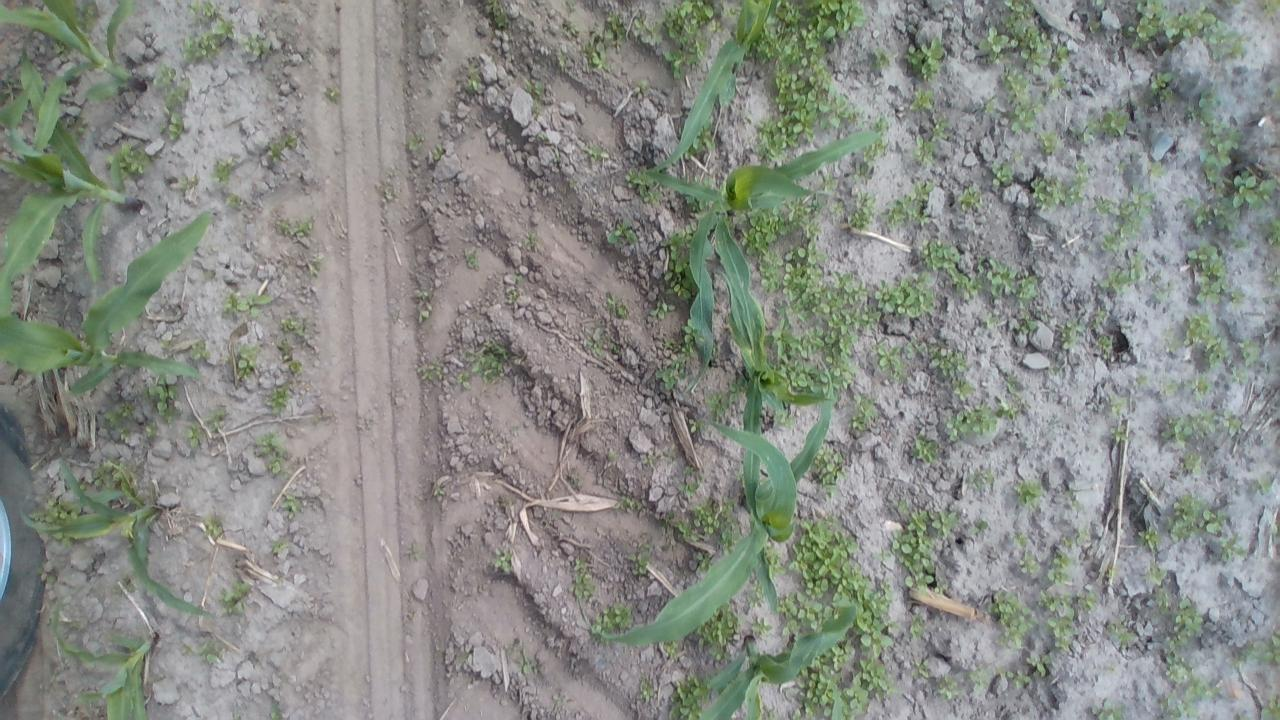Maize: (598, 363, 836, 646), (648, 125, 882, 399), (708, 198, 828, 610), (3, 212, 218, 395), (1, 46, 142, 323), (23, 450, 212, 614), (646, 0, 774, 176), (2, 0, 148, 152), (701, 594, 854, 720), (51, 601, 162, 719)
Weeds: (748, 0, 864, 157), (758, 237, 868, 351), (792, 514, 888, 606), (1120, 0, 1246, 65), (892, 502, 958, 590), (798, 662, 872, 720), (1094, 186, 1154, 250), (741, 204, 817, 254), (776, 348, 858, 391), (918, 239, 978, 297), (1001, 65, 1042, 140), (583, 11, 627, 76), (1028, 163, 1090, 209), (1205, 124, 1243, 199), (661, 228, 695, 306), (1227, 626, 1280, 676), (990, 590, 1036, 647), (1162, 654, 1224, 696), (882, 178, 934, 228), (1184, 311, 1230, 367), (875, 274, 933, 317), (1096, 248, 1146, 296), (219, 286, 278, 326), (696, 500, 738, 554), (663, 0, 721, 39), (102, 140, 154, 182), (182, 21, 232, 63), (775, 592, 822, 636), (461, 345, 504, 392), (1230, 169, 1278, 210), (660, 40, 709, 80), (944, 405, 996, 442), (664, 676, 706, 720), (652, 507, 696, 548), (1013, 26, 1050, 74), (105, 398, 138, 450), (906, 35, 944, 80), (1166, 492, 1200, 541), (622, 165, 658, 210), (1196, 276, 1248, 307), (652, 356, 693, 395), (858, 604, 892, 650), (503, 638, 543, 677), (1186, 241, 1228, 276), (1184, 86, 1222, 124), (232, 340, 262, 388), (874, 342, 906, 387), (812, 449, 846, 490), (253, 432, 286, 474), (590, 602, 633, 634), (662, 318, 696, 358), (986, 256, 1020, 296), (853, 140, 888, 178), (930, 346, 971, 378), (862, 658, 898, 694), (629, 5, 660, 46), (704, 386, 740, 421), (636, 441, 678, 471), (206, 154, 239, 192), (1197, 499, 1230, 536), (90, 459, 132, 488), (759, 542, 788, 584), (1178, 192, 1210, 230), (1174, 598, 1204, 638), (701, 612, 738, 644), (928, 672, 965, 704), (598, 288, 634, 320), (1160, 688, 1198, 718), (585, 325, 618, 359), (266, 130, 298, 164), (848, 395, 878, 431), (846, 192, 876, 228), (220, 582, 252, 615), (979, 26, 1008, 62), (149, 380, 175, 420), (967, 461, 998, 494), (262, 382, 288, 420), (1103, 616, 1137, 645), (1070, 114, 1097, 150), (1257, 211, 1280, 253), (1160, 414, 1190, 446), (675, 463, 704, 496), (1038, 589, 1072, 616), (1048, 548, 1074, 583), (1047, 616, 1075, 648), (1142, 158, 1176, 184), (481, 0, 508, 32), (486, 544, 513, 576), (376, 166, 401, 200), (646, 294, 676, 322), (1250, 474, 1278, 504), (570, 561, 593, 597), (162, 107, 186, 141), (1004, 0, 1038, 24), (1091, 698, 1128, 720), (1179, 448, 1208, 476), (1185, 371, 1213, 400), (182, 418, 207, 450), (185, 0, 223, 21), (1214, 200, 1238, 233), (606, 217, 634, 245), (1072, 588, 1102, 614), (912, 436, 940, 463), (1219, 535, 1247, 562), (1190, 408, 1216, 437), (958, 185, 984, 214), (1024, 651, 1051, 678), (1238, 336, 1266, 362), (414, 288, 434, 324), (277, 218, 313, 238), (108, 573, 138, 597), (1016, 274, 1040, 304), (1000, 366, 1023, 397), (1045, 69, 1067, 101), (1017, 480, 1043, 507), (970, 664, 994, 693), (1034, 131, 1064, 154), (39, 500, 73, 520), (1102, 109, 1128, 135), (188, 338, 214, 364), (241, 31, 268, 56), (870, 44, 895, 71), (582, 140, 610, 164), (1058, 320, 1082, 348), (1115, 150, 1137, 180), (749, 613, 773, 640), (908, 652, 932, 679), (706, 646, 734, 669), (1154, 585, 1174, 617), (150, 62, 179, 84), (1222, 409, 1244, 438), (1152, 74, 1176, 100), (1085, 303, 1108, 330), (521, 74, 546, 97), (617, 491, 642, 514), (906, 612, 929, 637), (462, 244, 481, 274), (172, 174, 200, 194), (1108, 390, 1128, 418), (999, 668, 1030, 686), (166, 82, 190, 105), (992, 162, 1015, 186), (266, 532, 290, 555), (1230, 365, 1254, 388), (911, 87, 933, 112), (1106, 422, 1131, 444), (698, 120, 714, 154), (36, 561, 56, 588), (1162, 324, 1180, 354), (968, 516, 991, 539), (914, 136, 936, 160), (200, 640, 224, 662), (402, 542, 424, 566), (1067, 488, 1085, 517), (404, 128, 424, 154), (208, 405, 228, 431), (1258, 0, 1280, 23), (823, 200, 844, 224), (952, 378, 976, 399), (1094, 334, 1112, 362), (279, 318, 304, 338), (979, 92, 998, 118), (1138, 526, 1160, 548), (1079, 16, 1101, 38), (418, 363, 446, 380), (686, 415, 704, 441), (1102, 563, 1120, 589), (1011, 526, 1032, 548), (52, 530, 75, 550), (558, 17, 582, 36), (929, 114, 948, 138), (748, 580, 764, 608), (999, 401, 1020, 422), (286, 359, 306, 381), (660, 641, 680, 663), (1232, 236, 1252, 258), (819, 170, 840, 190), (554, 44, 568, 74), (223, 192, 244, 212), (282, 492, 302, 513), (628, 553, 648, 574), (466, 66, 482, 92), (322, 86, 342, 106), (268, 698, 286, 720), (49, 42, 73, 58), (604, 446, 624, 465), (548, 692, 567, 712), (1146, 562, 1167, 580), (631, 78, 651, 96), (308, 252, 323, 276), (1154, 284, 1174, 302), (906, 338, 926, 356), (1020, 554, 1038, 574), (204, 515, 222, 535), (1157, 375, 1177, 393), (636, 679, 652, 701), (1075, 526, 1091, 548), (1262, 695, 1276, 720), (1051, 44, 1069, 63), (776, 411, 796, 428), (522, 227, 538, 248), (874, 116, 892, 134), (160, 336, 177, 355), (564, 175, 580, 195), (982, 312, 998, 332), (1020, 316, 1039, 332), (146, 420, 162, 439), (692, 552, 708, 570), (278, 338, 292, 358), (1270, 78, 1280, 106), (1134, 374, 1150, 390), (528, 98, 542, 116), (432, 144, 446, 162), (1047, 362, 1062, 378), (725, 6, 742, 20), (432, 483, 444, 502), (1266, 266, 1278, 285), (1088, 0, 1108, 11), (504, 289, 518, 304), (180, 642, 194, 657), (569, 477, 583, 492), (1011, 148, 1024, 164), (1059, 532, 1072, 548), (510, 272, 524, 286), (1150, 270, 1162, 286), (552, 147, 562, 166), (536, 130, 548, 145)
